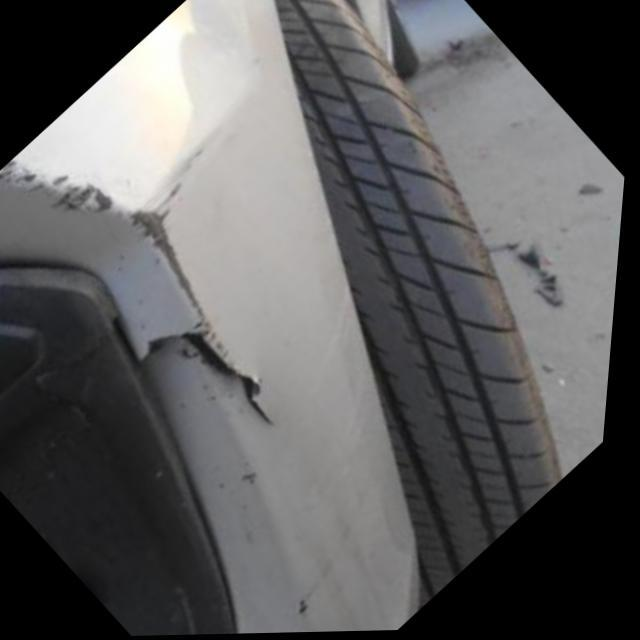crack: (145, 330, 282, 427)
rub: (0, 163, 118, 218)
scratch: (135, 210, 235, 370)
